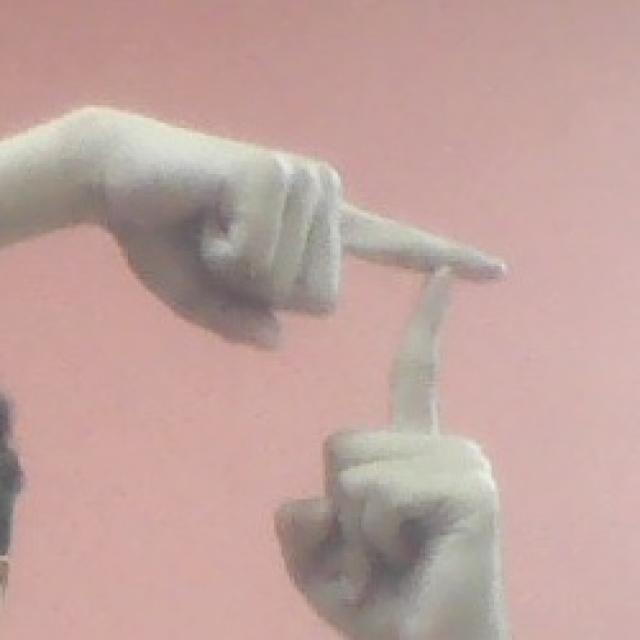Alphabet-T: (92, 100, 524, 630)
